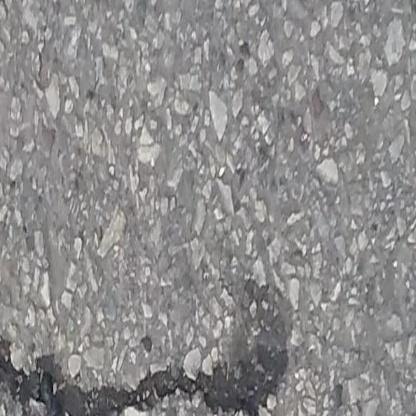Cracks: (0, 307, 294, 416)
